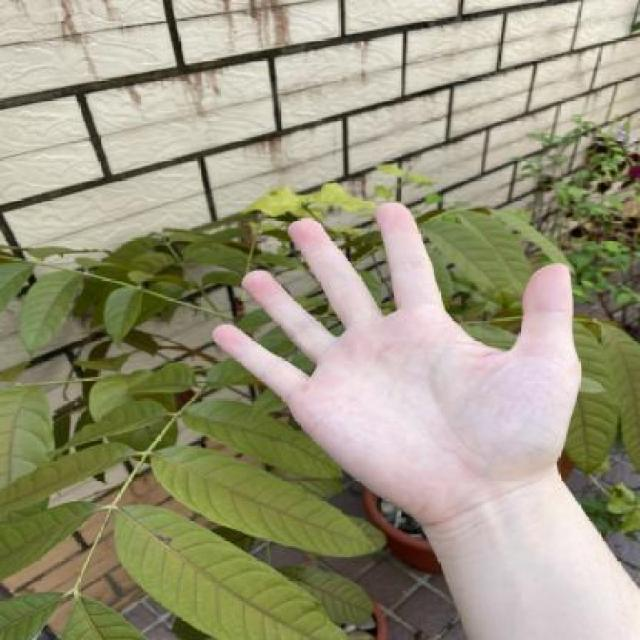hand: (199, 180, 593, 537)
